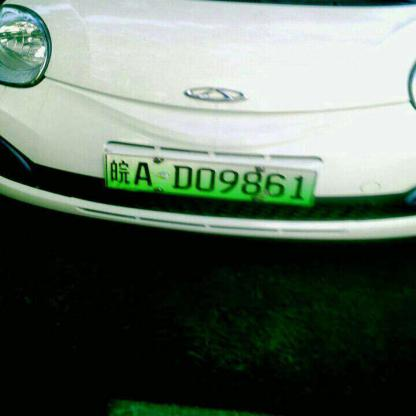lp: (104, 152, 314, 206)
